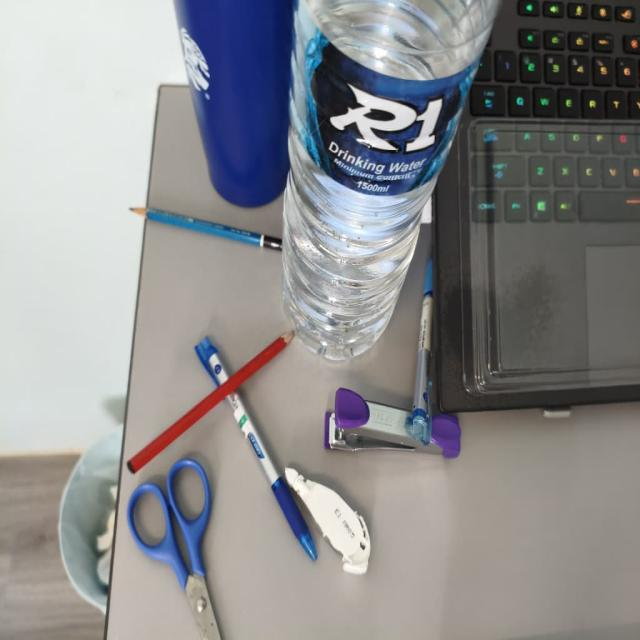pen: (228, 392, 317, 559), (409, 258, 432, 443), (196, 337, 228, 386)
pencil: (127, 332, 292, 473), (129, 208, 281, 249)
scissor: (128, 458, 220, 639)
stapler: (324, 388, 460, 458)
